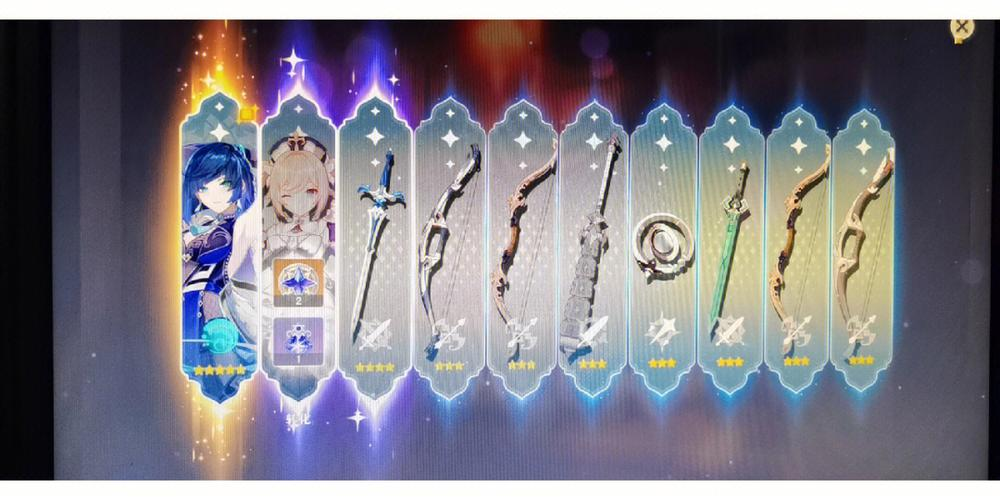夜兰: (179, 138, 258, 409)
